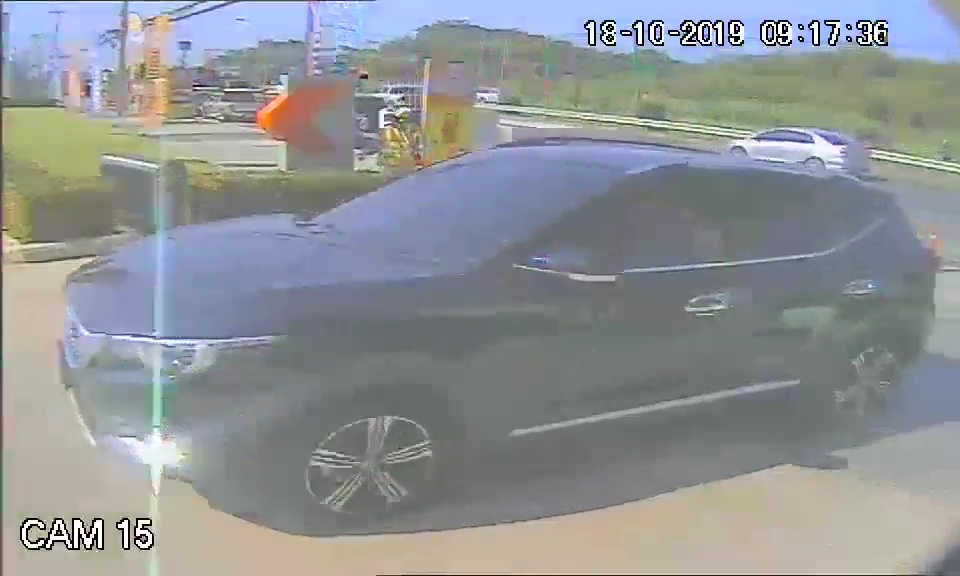pickup: (52, 131, 941, 482)
